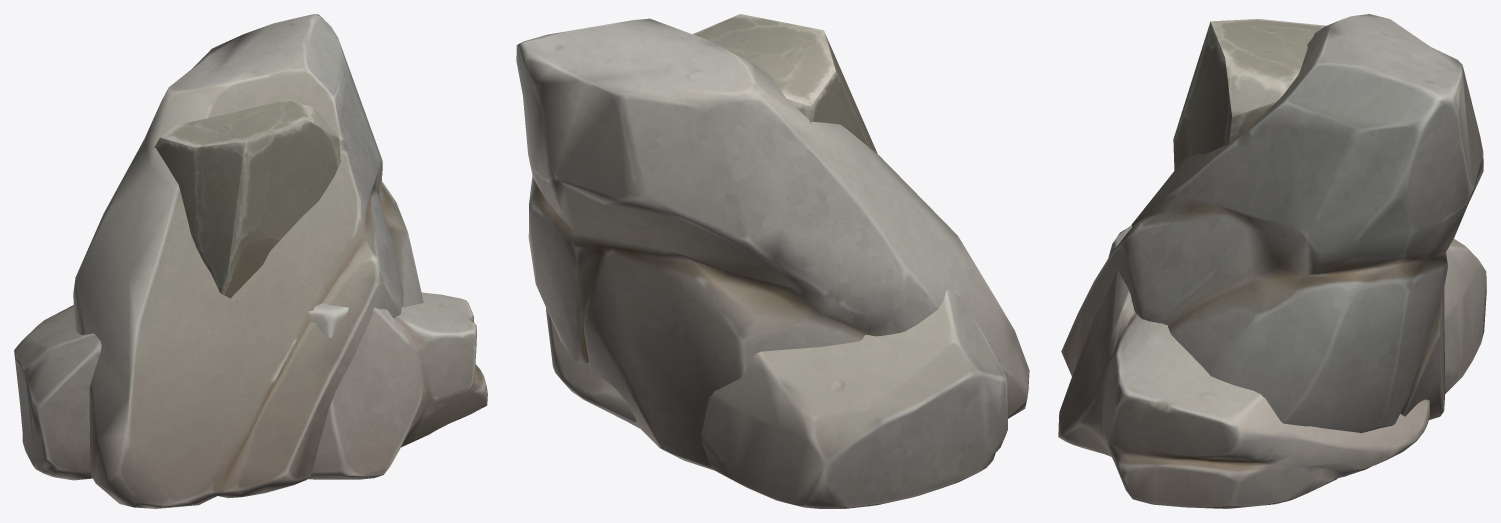
Rendered from rocce_stilizzate.glb.
3 renders of one model, left to right at view 1: azimuth 30°, elevation 25°; view 2: azimuth 150°, elevation 25°; view 3: azimuth 270°, elevation 25°, orthographic. The views are drawn at different scales.
Parts seen in each view (by area): view 1: SM_Rocks_04, SM_Rocks_03, SM_Rocks_09; view 2: SM_Rocks_04, SM_Rocks_03, SM_Rocks_09; view 3: SM_Rocks_04, SM_Rocks_03, SM_Rocks_09.
Part boxes in pixels (x1=…): SM_Rocks_04: x1=73, y1=14, x2=423, y2=508; SM_Rocks_03: x1=14, y1=292, x2=487, y2=480; SM_Rocks_09: x1=154, y1=99, x2=340, y2=298; SM_Rocks_04: x1=516, y1=18, x2=1029, y2=470; SM_Rocks_03: x1=546, y1=289, x2=1007, y2=508; SM_Rocks_09: x1=693, y1=14, x2=877, y2=153; SM_Rocks_04: x1=1061, y1=14, x2=1483, y2=433; SM_Rocks_03: x1=1058, y1=225, x2=1486, y2=508; SM_Rocks_09: x1=1173, y1=19, x2=1325, y2=170.
Size of the model in its own units: 2.18 by 1.7 by 1.61.
Materials: 1 (1 with a texture image).
